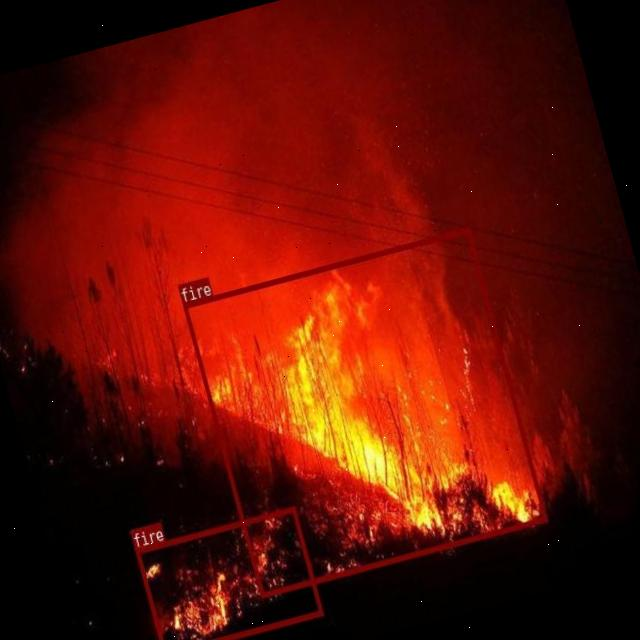fire: (182, 227, 547, 598), (134, 505, 322, 640)
